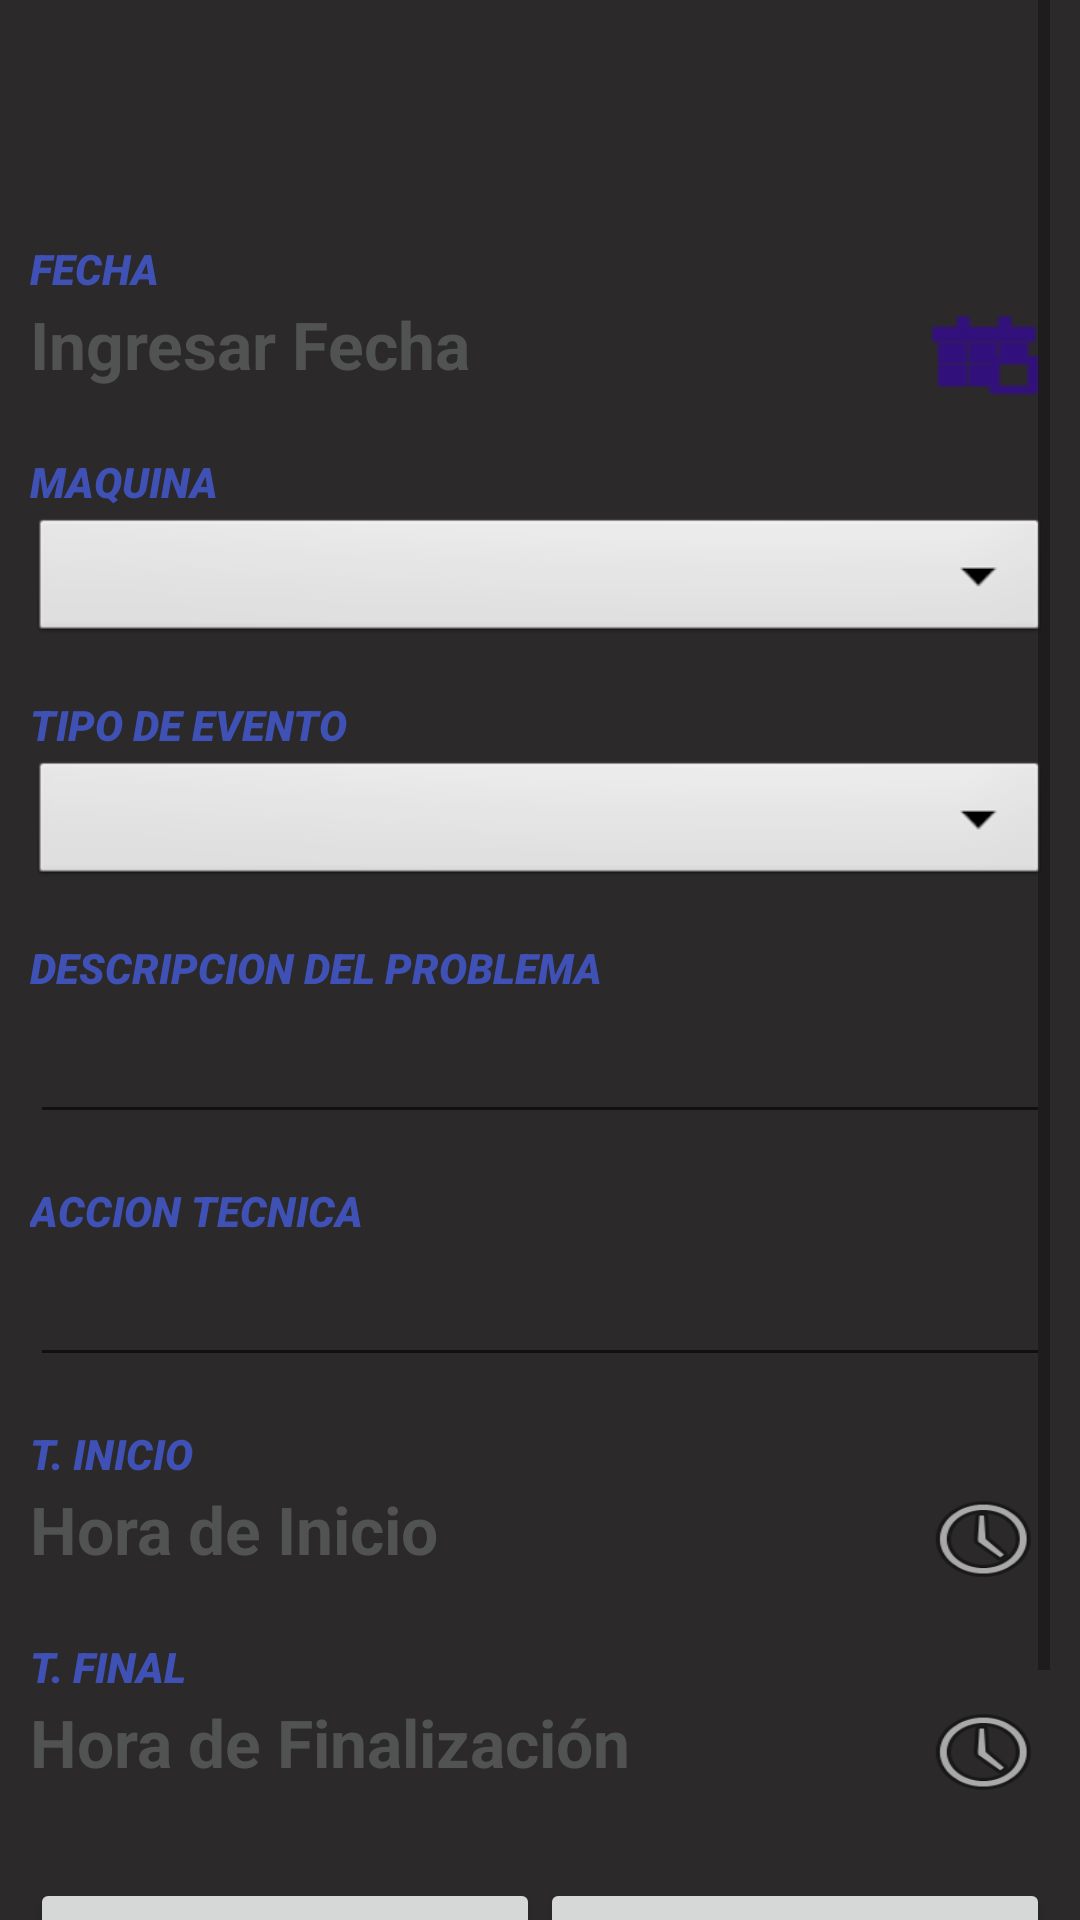

Locate icon controls on the screen. Image size 1080px×1920px, boxes as BBox(x1, y1, x2, y2).
recent history: BBox(940, 1504, 1027, 1574), BBox(940, 1717, 1027, 1787)
today: BBox(932, 315, 1038, 395)
